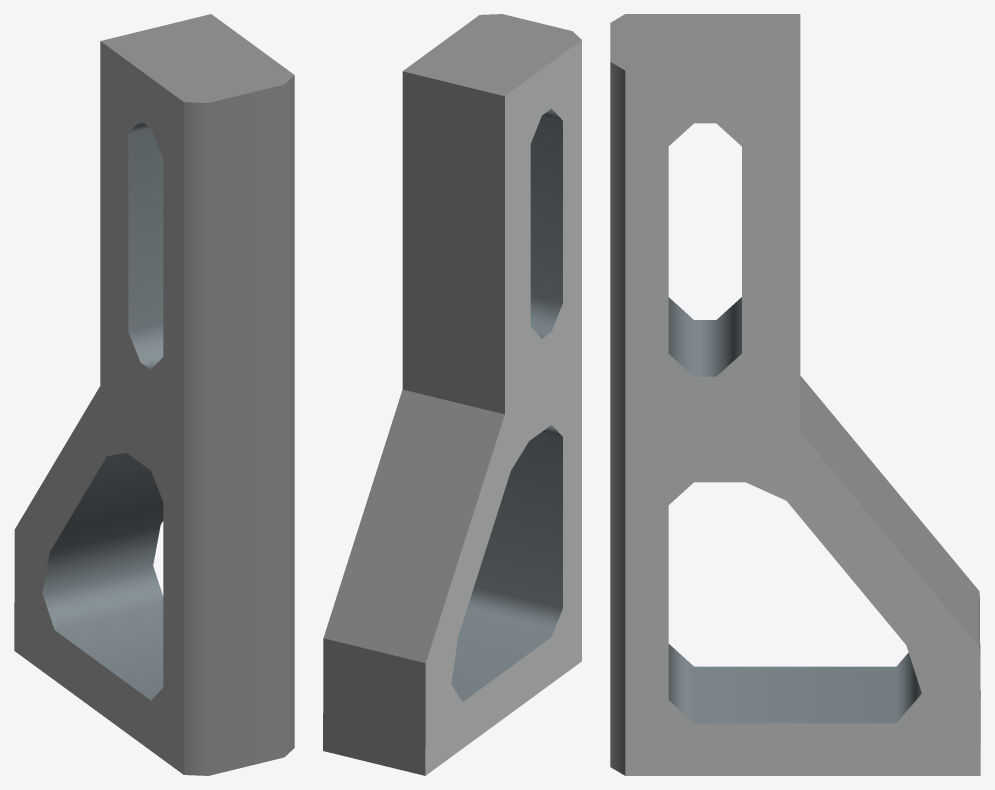
The model's file is Short_column_003.glb.
3 views of the same model, side by side, from view 1: azimuth 30°, elevation 25°; view 2: azimuth 150°, elevation 25°; view 3: azimuth 270°, elevation 25° (orthographic). The views are drawn at different scales.
Parts seen in each view (by area): view 1: Short_column_003; view 2: Short_column_003; view 3: Short_column_003.
Part boxes in pixels (x1=…): Short_column_003: x1=14, y1=14, x2=294, y2=775; Short_column_003: x1=323, y1=14, x2=581, y2=775; Short_column_003: x1=610, y1=14, x2=980, y2=775.
Size of the model in its own units: 0.2241 by 1.3 by 0.6188.
1 material, 1 textured.
